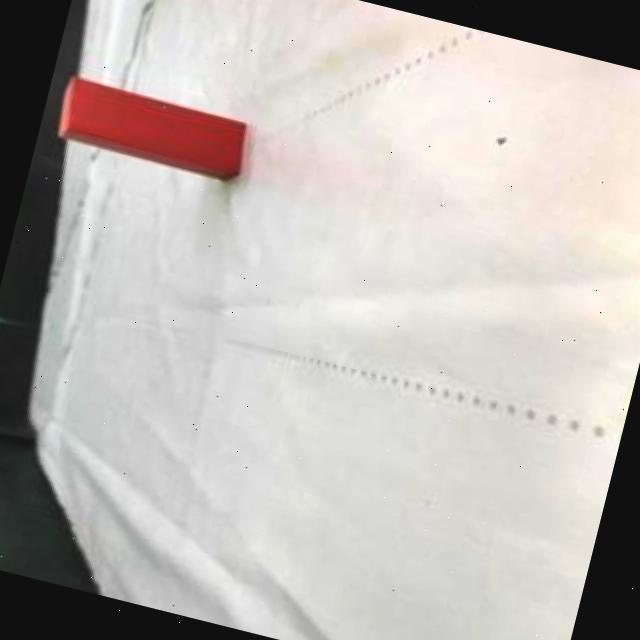redbox: (52, 75, 254, 184)
